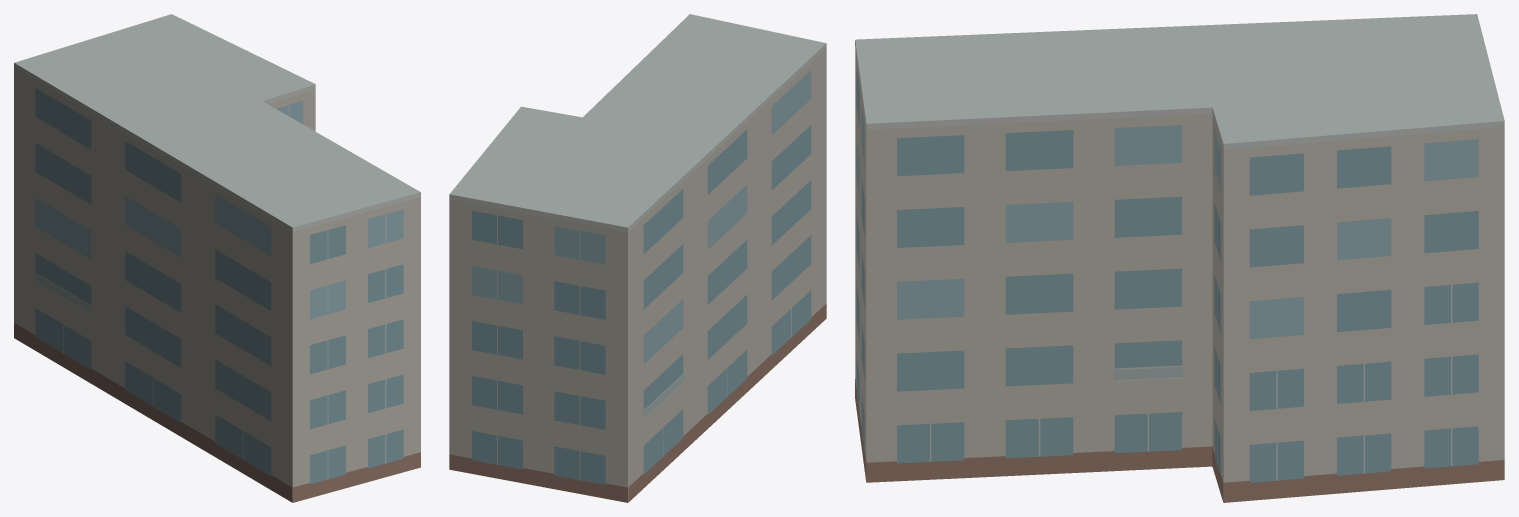
File: survey-upis-32731047.glb
The picture shows the model from 3 angles, left to right: view 1: azimuth 30°, elevation 25°; view 2: azimuth 150°, elevation 25°; view 3: azimuth 270°, elevation 25°; orthographic projection. The views are drawn at different scales.
Parts seen in each view (by area): view 1: survey-upis-32731047.tmp; view 2: survey-upis-32731047.tmp; view 3: survey-upis-32731047.tmp.
Part boxes in pixels (bbox=[...]): survey-upis-32731047.tmp: bbox=[14, 14, 420, 502]; survey-upis-32731047.tmp: bbox=[449, 14, 826, 502]; survey-upis-32731047.tmp: bbox=[855, 14, 1504, 502].
Bounding box in the file's own units: 11.04 × 14.2 × 23.3.
